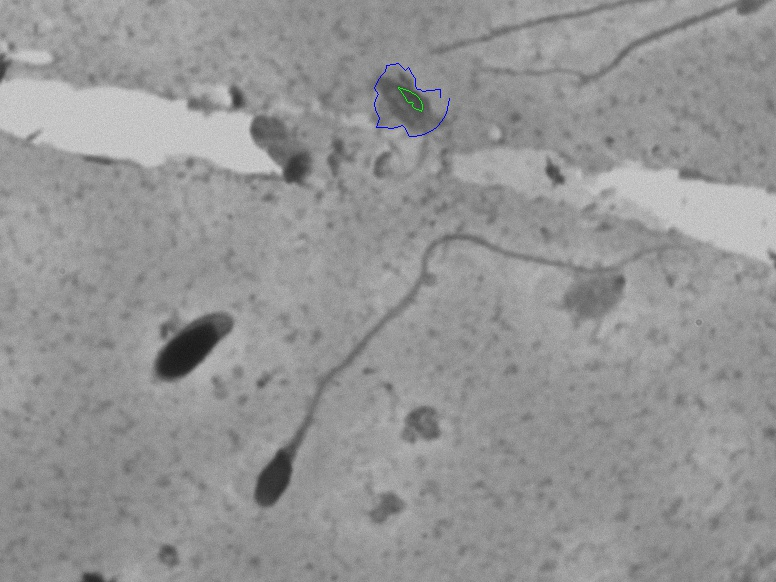Abnormal: (244, 226, 687, 530), (134, 274, 254, 391)
